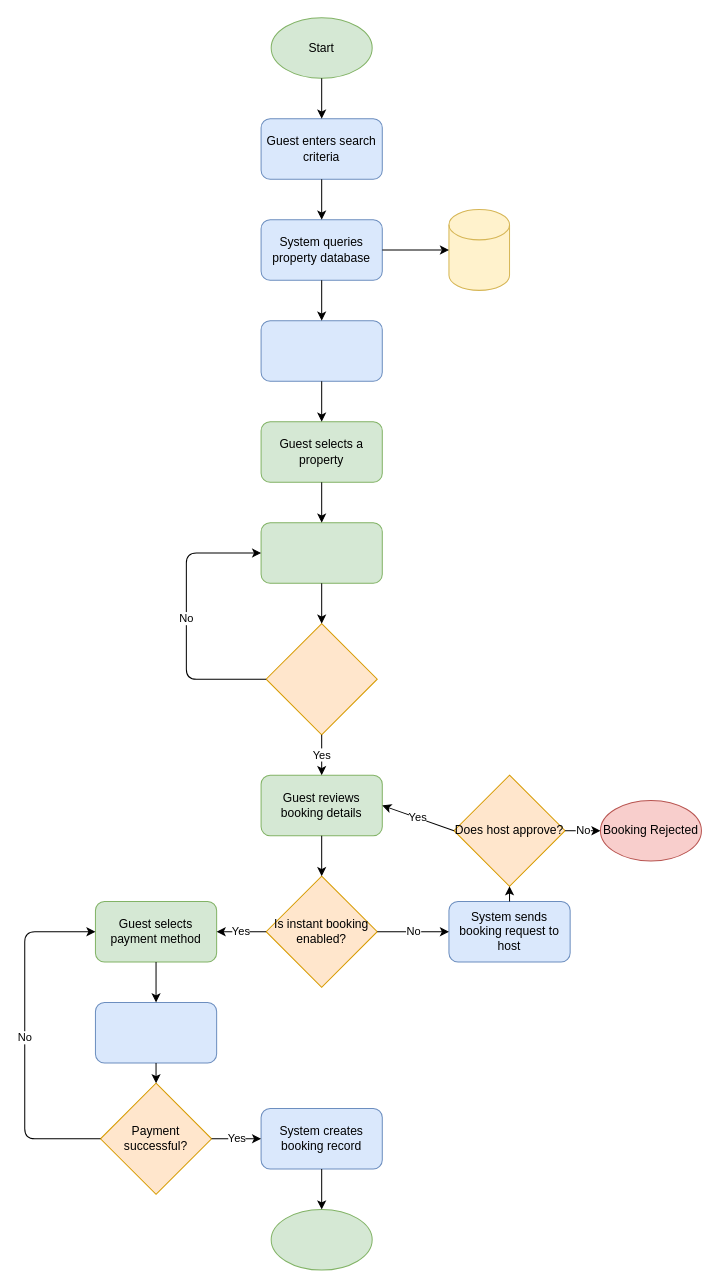
Image size: 719x1288. Some labels were removed from this diagram. The box of each missing label's shape, as (x1, y1, x2, y2) in pixels:
Are dates available?: (265, 623, 377, 735)
Booking Completed: (270, 1208, 372, 1270)
Guest selects booking dates: (260, 522, 382, 583)
Property Database: (448, 209, 510, 290)
System displays available properties: (260, 320, 382, 381)
System processes payment: (94, 1001, 217, 1063)
